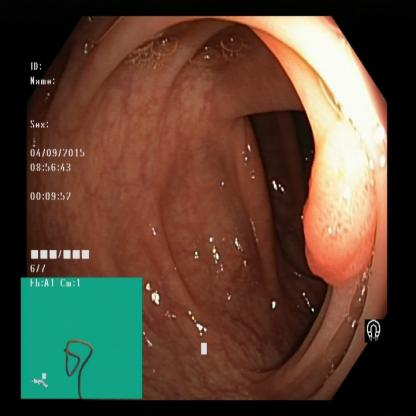Labels: (29, 54, 106, 275), (15, 278, 149, 402), (366, 298, 392, 350)
Polyps: (308, 134, 374, 296)
